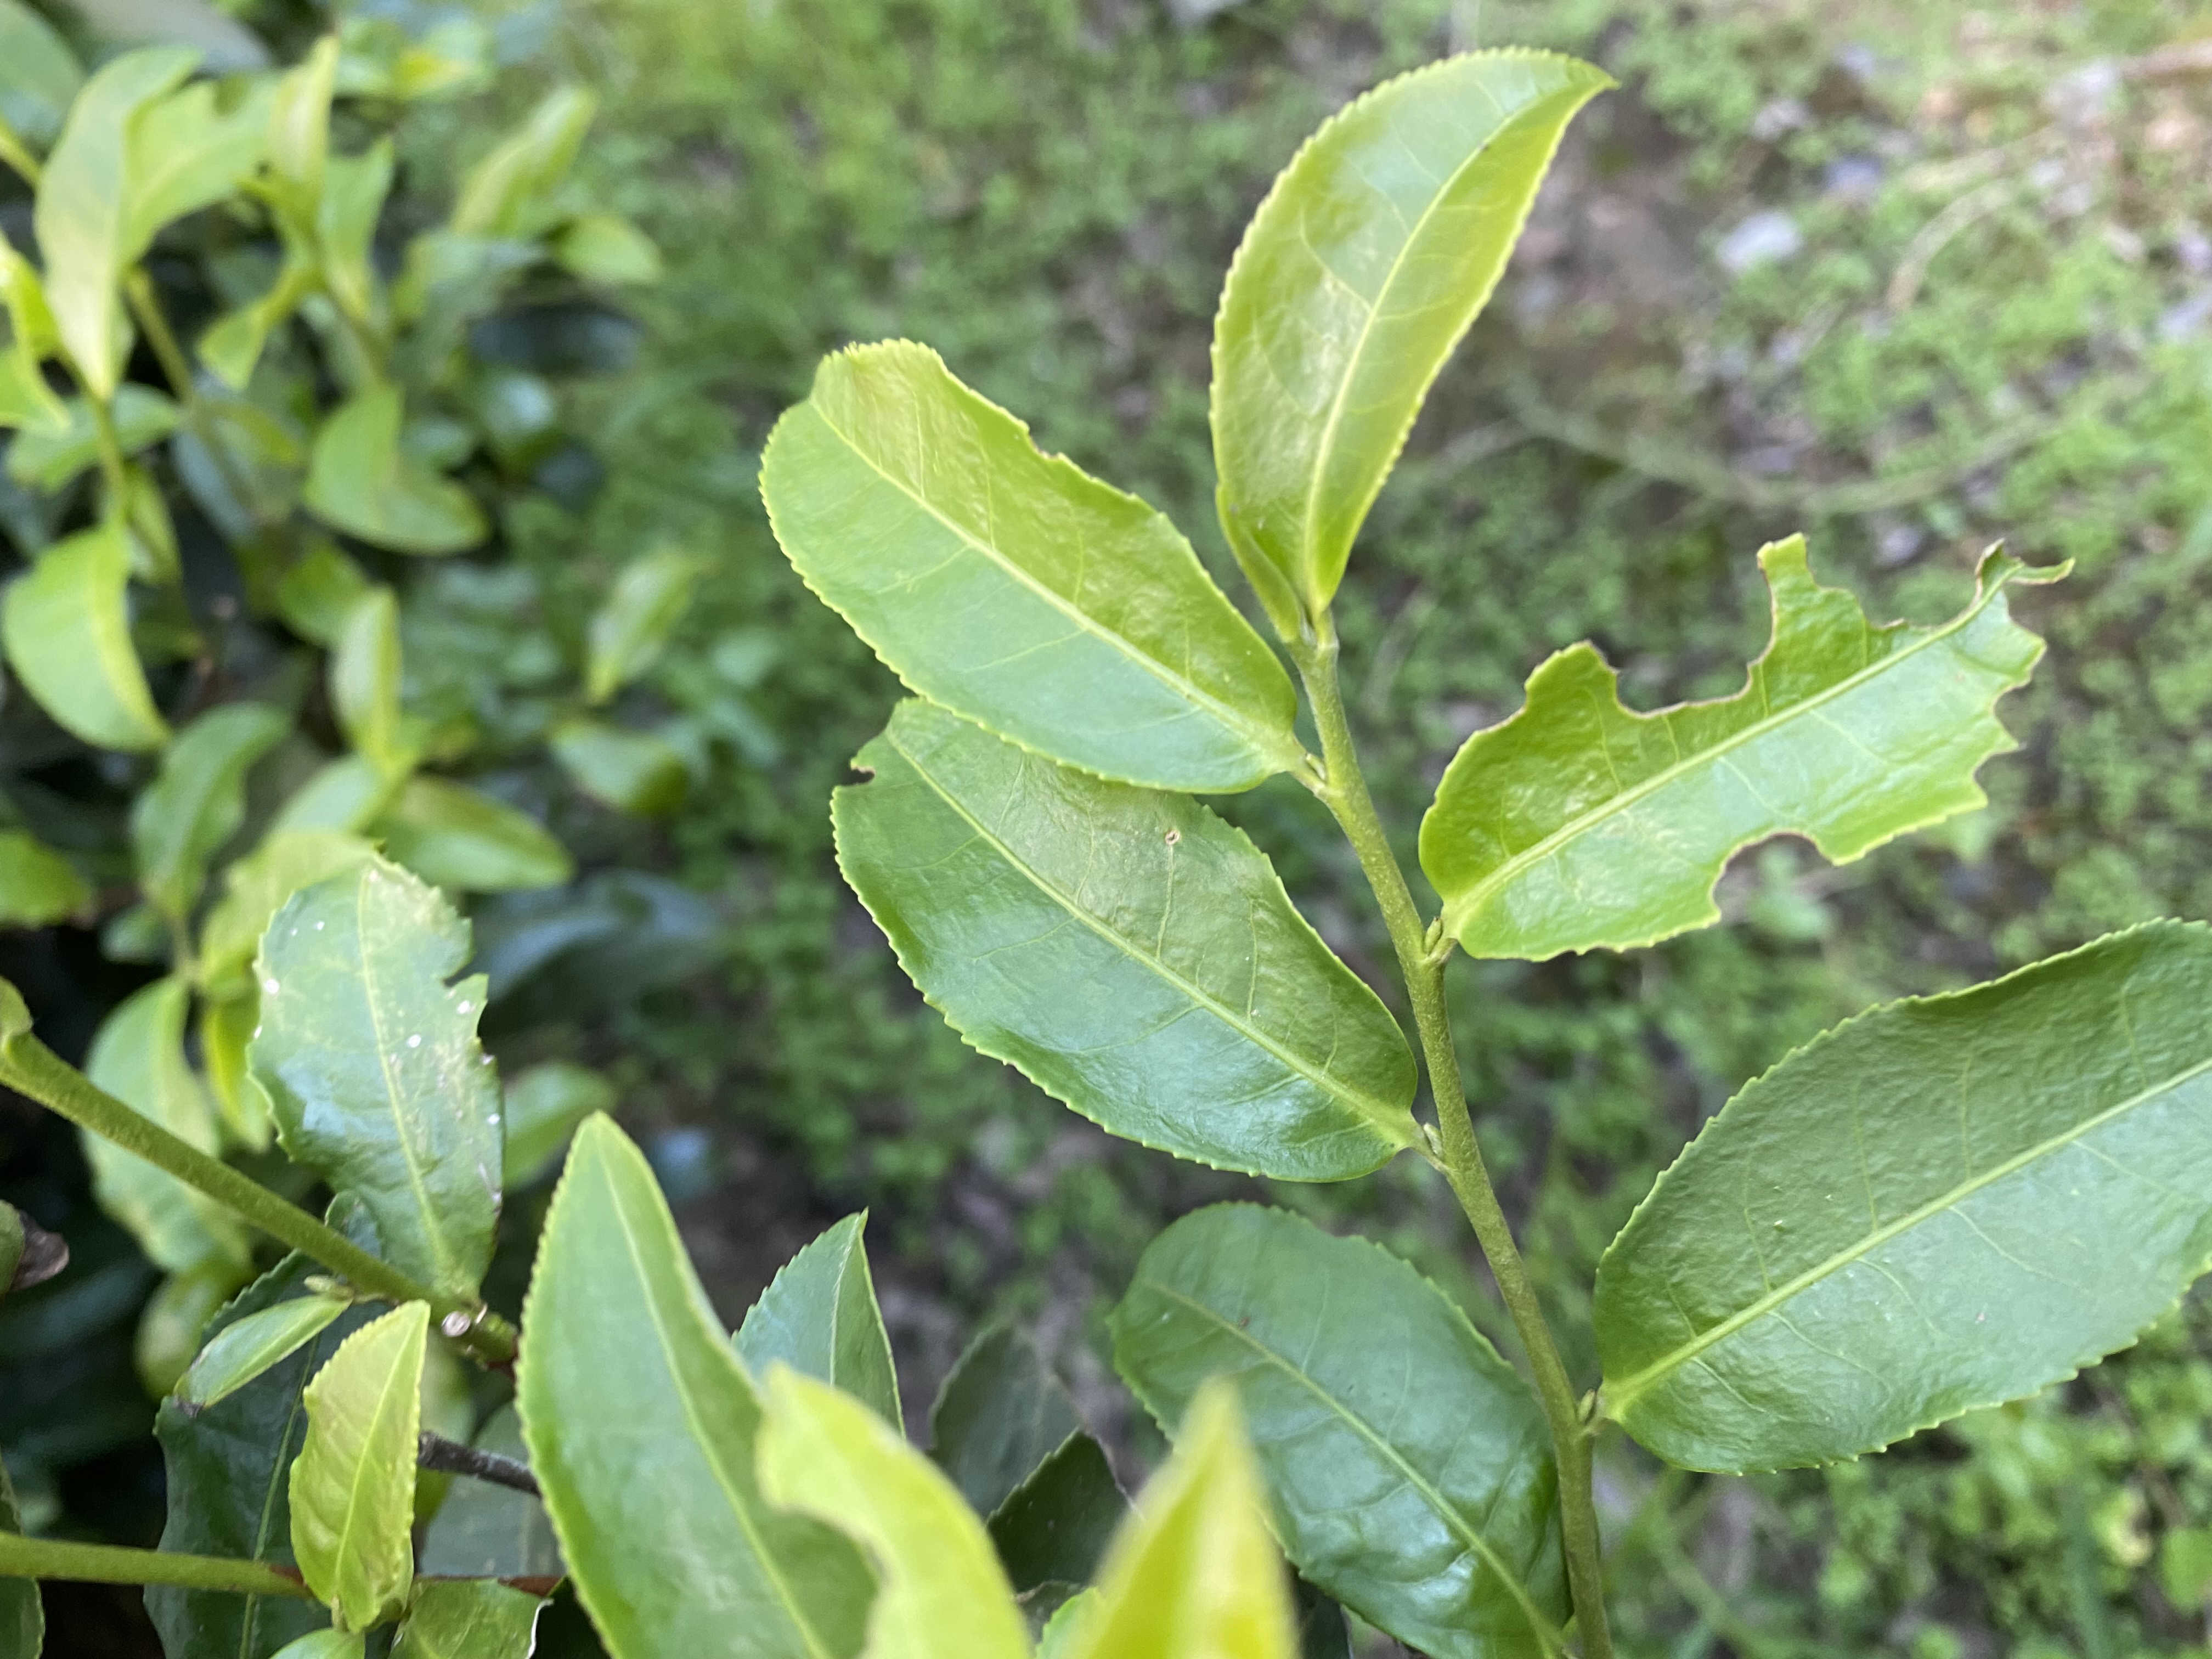chihuo_high: (1416, 532, 2078, 962), (242, 850, 503, 1295)
chihuo_low: (827, 692, 1423, 1182), (745, 1354, 1031, 1657)
healthy: (1588, 911, 2212, 1486), (754, 336, 1301, 798), (1204, 38, 1620, 619), (1103, 1194, 1580, 1657)
